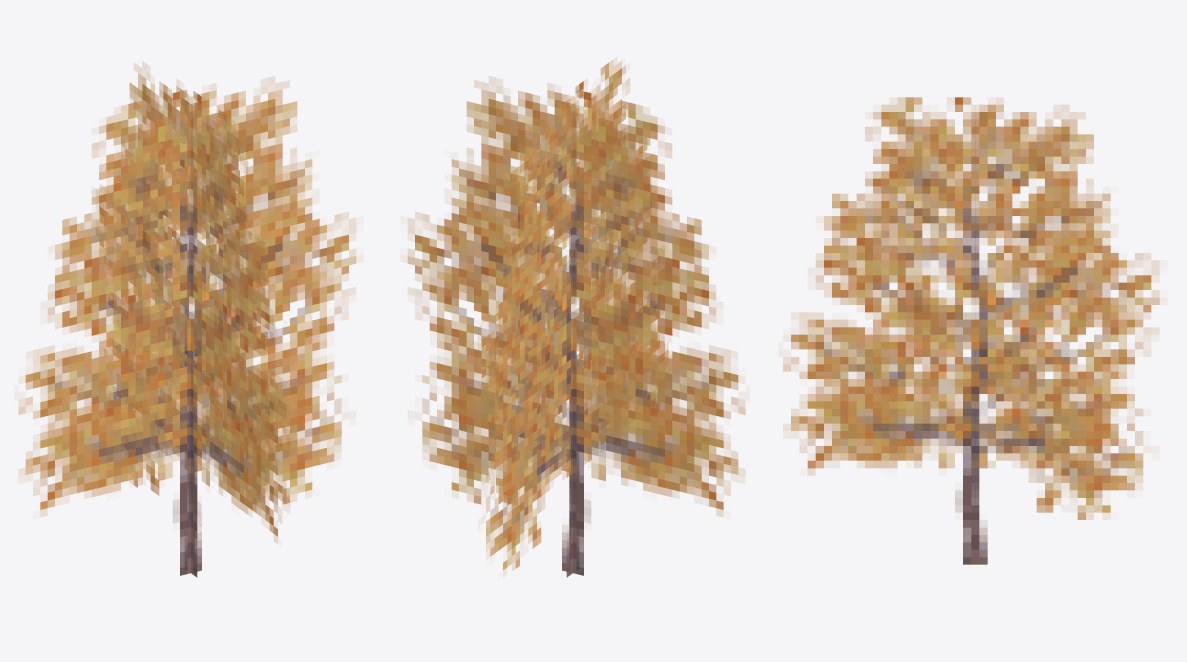
Rendered from tree-large.glb.
3 renders of one model, left to right at view 1: azimuth 30°, elevation 25°; view 2: azimuth 150°, elevation 25°; view 3: azimuth 270°, elevation 25°, orthographic. The views are drawn at different scales.
Parts seen in each view (by area): view 1: tree-large; view 2: tree-large; view 3: tree-large.
Part boxes in pixels (x1=…): tree-large: x1=18, y1=62, x2=356, y2=577; tree-large: x1=407, y1=58, x2=745, y2=577; tree-large: x1=783, y1=97, x2=1159, y2=564.
Bounding box in the file's own units: 1.3 × 1.7 × 1.3.
Materials: 1 (1 with a texture image).
